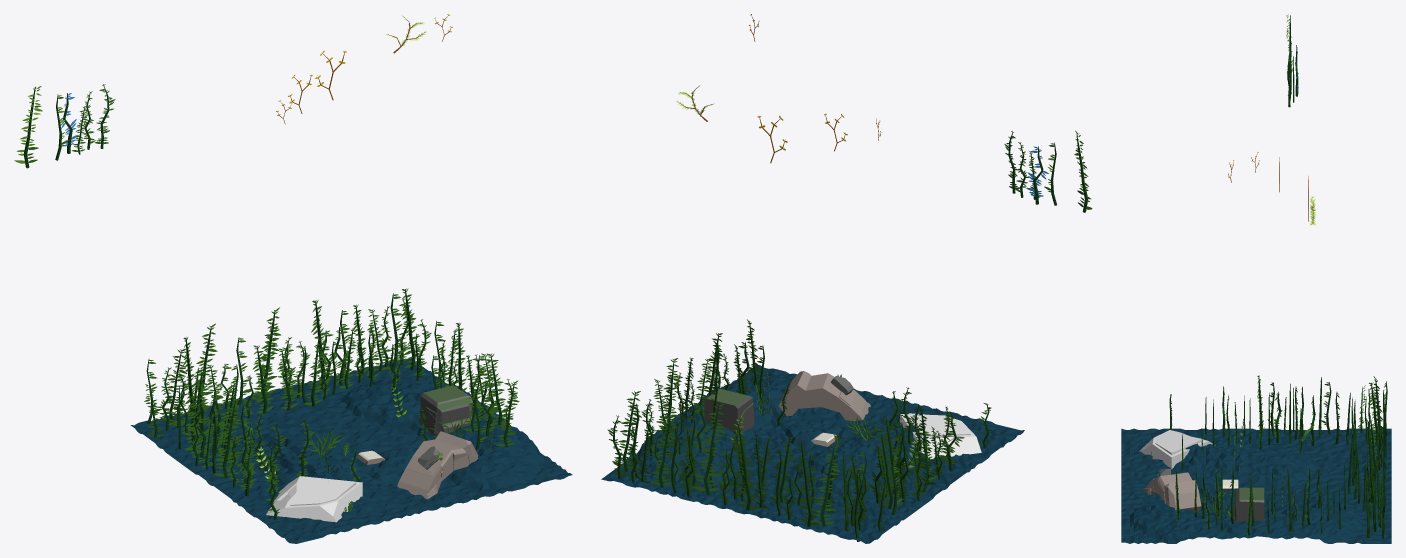
3 views of the same model, side by side, from view 1: azimuth 30°, elevation 25°; view 2: azimuth 150°, elevation 25°; view 3: azimuth 270°, elevation 25° (orthographic). The views are drawn at different scales.
Visible parts, largest first — view 1: Floor, White rock, Gray rock, Gray rock.001; view 2: Floor, Gray rock, White rock, Gray rock.001, B/BG.Kelp V2.022; view 3: Floor, Gray rock, White rock, Gray rock.001.
Part boxes in pixels (<box>): Floor: <box>130,358,572,543</box>; White rock: <box>266,476,362,522</box>; Gray rock: <box>397,431,478,499</box>; Gray rock.001: <box>419,385,472,435</box>; Floor: <box>601,365,1024,543</box>; Gray rock: <box>778,371,870,421</box>; White rock: <box>900,413,981,459</box>; Gray rock.001: <box>704,388,754,433</box>; B/BG.Kelp V2.022: <box>692,404,725,491</box>; Floor: <box>1121,428,1391,543</box>; Gray rock: <box>1143,472,1201,511</box>; White rock: <box>1139,430,1215,468</box>; Gray rock.001: <box>1232,487,1264,521</box>.
Size of the model in its own units: 1645 by 1480 by 1006.
